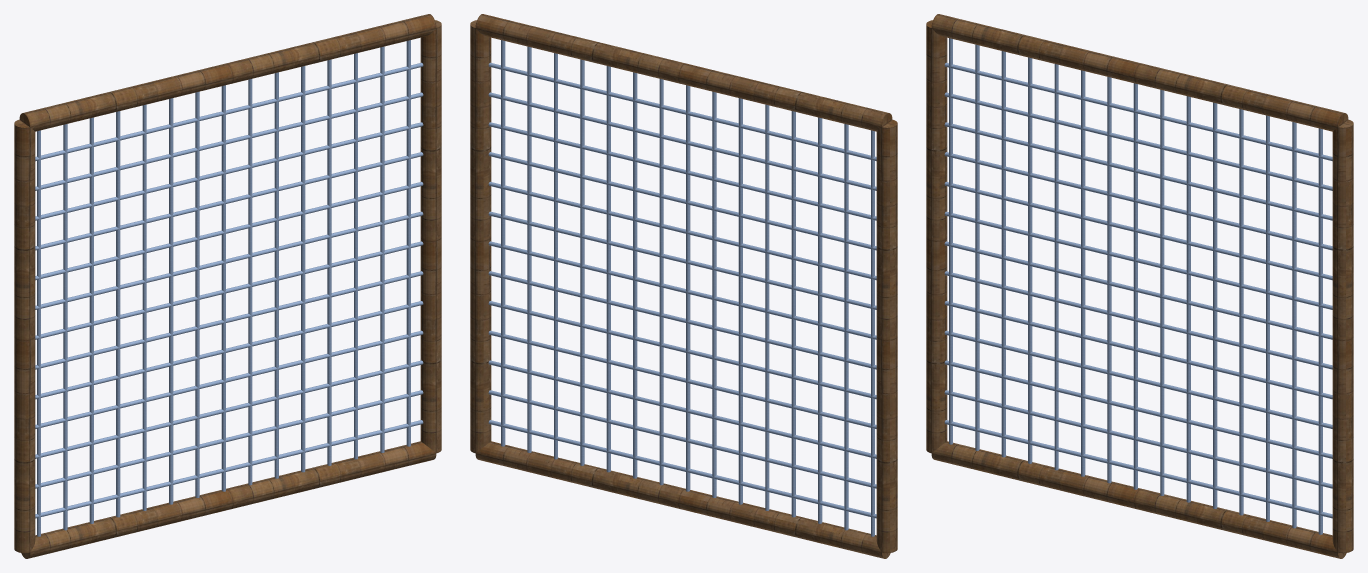
The model's file is peneira.glb.
3 renders of one model, left to right at view 1: azimuth 30°, elevation 25°; view 2: azimuth 150°, elevation 25°; view 3: azimuth 330°, elevation 25°, orthographic.
Parts seen in each view (by area): view 1: Travessa, Travessa.003, Travessa.001, Travessa.002, Urdidura.001, Urdidura.003, Urdidura.010, Urdidura.013, Urdidura.005, Urdidura.008, Urdidura.006, Urdidura.011 (+20 smaller); view 2: Travessa, Travessa.003, Travessa.001, Travessa.002, Urdidura.001, Urdidura.003, Urdidura.010, Urdidura.013, Urdidura.005, Urdidura.008, Urdidura.006, Urdidura.011 (+20 smaller); view 3: Travessa.001, Travessa.003, Travessa, Travessa.002, Urdidura.004, Urdidura.014, Urdidura.002, Urdidura.006, Urdidura.009, Urdidura.013, Urdidura.011, Urdidura.007 (+20 smaller).
Boxes of the visible parts, x1,y1,x2,y2 form: Travessa: (14,119,35,553); Travessa.003: (19,14,436,131); Travessa.001: (420,20,441,453); Travessa.002: (21,441,436,558); Urdidura.001: (63,124,67,530); Urdidura.003: (116,111,120,517); Urdidura.010: (301,66,305,472); Urdidura.013: (380,46,384,452); Urdidura.005: (169,98,173,504); Urdidura.008: (248,79,252,485); Urdidura.006: (195,91,199,497); Urdidura.011: (327,59,331,465); Travessa: (876,119,897,553); Travessa.003: (475,14,892,131); Travessa.001: (470,20,491,453); Travessa.002: (475,441,890,558); Urdidura.001: (844,124,848,530); Urdidura.003: (791,111,795,517); Urdidura.010: (606,66,610,472); Urdidura.013: (527,46,531,452); Urdidura.005: (738,98,742,504); Urdidura.008: (659,79,663,485); Urdidura.006: (712,91,716,497); Urdidura.011: (580,59,584,465); Travessa.001: (1332,119,1353,553); Travessa.003: (931,14,1348,131); Travessa: (926,20,947,453); Travessa.002: (931,441,1346,558); Urdidura.004: (1054,64,1058,470); Urdidura.014: (1318,128,1322,534); Urdidura.002: (1001,51,1005,457); Urdidura.006: (1107,77,1111,483); Urdidura.009: (1186,96,1190,502); Urdidura.013: (1292,122,1296,528); Urdidura.011: (1239,109,1243,515); Urdidura.007: (1133,83,1137,489).
Bounding box in the file's own units: 2.09 × 2.09 × 0.09.
2 materials, 2 textured.
